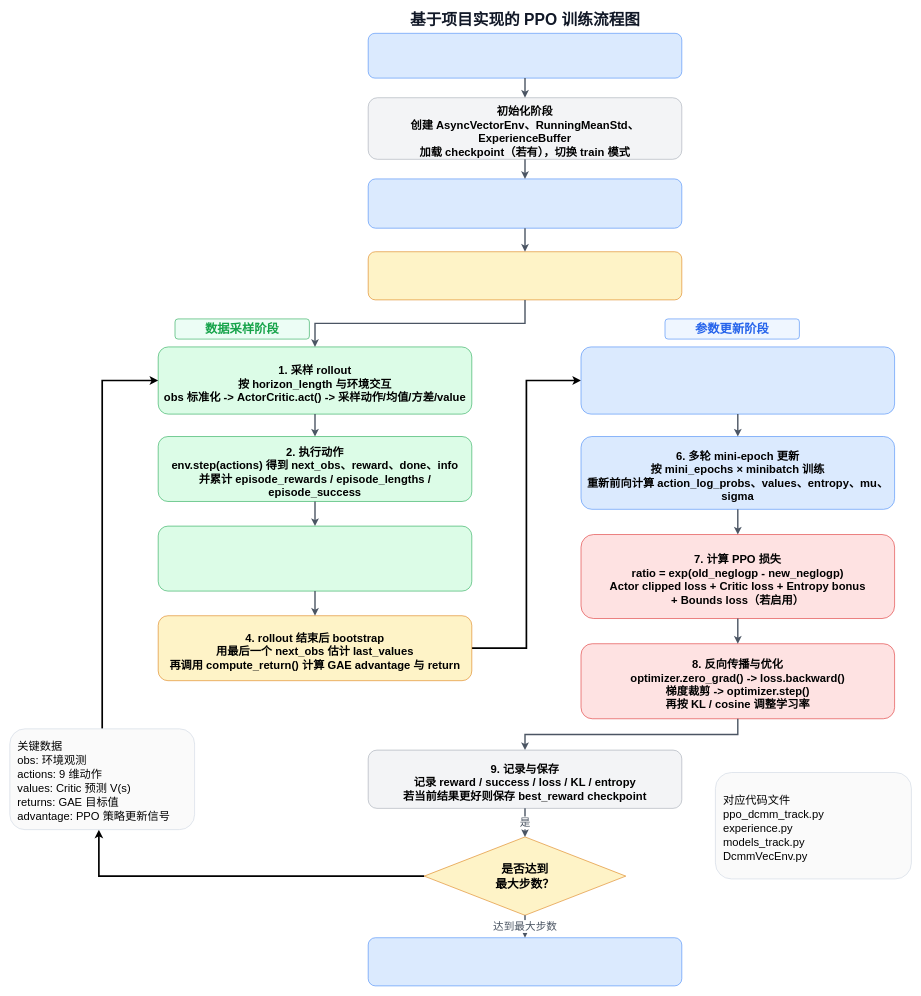
The diagram is 921 pixels wide and 996 high, and some of its shapes have lost their labels. The centre of each missing label's shape, as x and y in pixels:
"3. 存储轨迹 把 obs、actions、values、neglogp、mu、sigma、rewards、dones 写入 ExperienceBuffer" goes at pixel 315 558.
"5. 切换到训练阶段 set_train()，停止与环境交互，开始使用 rollout 数据更新网络" goes at pixel 737 380.
"开始训练 读取 Hydra 配置，构建环境、PPO 模型、优化器和统计器" goes at pixel 525 55.
"环境复位 env.reset() 得到多环境初始 obs，episode 统计量清零" goes at pixel 525 203.
"训练结束 输出最终统计，保存 last checkpoint 可进入测试 / 可视化阶段" goes at pixel 525 961.
"进入主循环 持续训练，直到 agent_steps >= max_agent_steps" goes at pixel 525 275.
